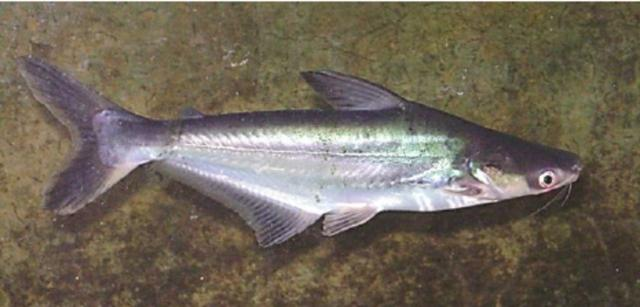Mulut: (533, 150, 589, 202)
Sirip Anal: (154, 157, 318, 257)
Sirip Dada: (425, 160, 495, 212)
Sirip Ekor: (12, 48, 132, 224)
Sirip Perut: (322, 189, 378, 246)
Sirip Punggung: (298, 62, 408, 124)
